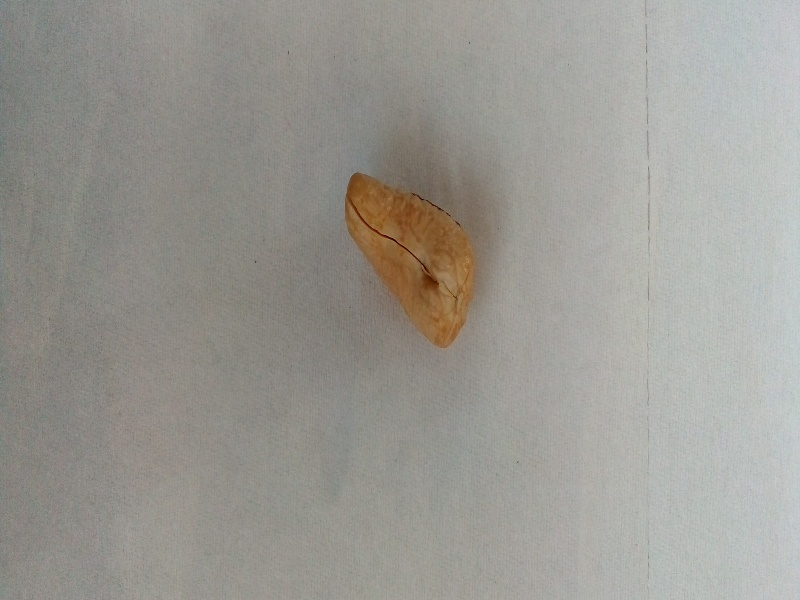cashew: (321, 147, 513, 360)
